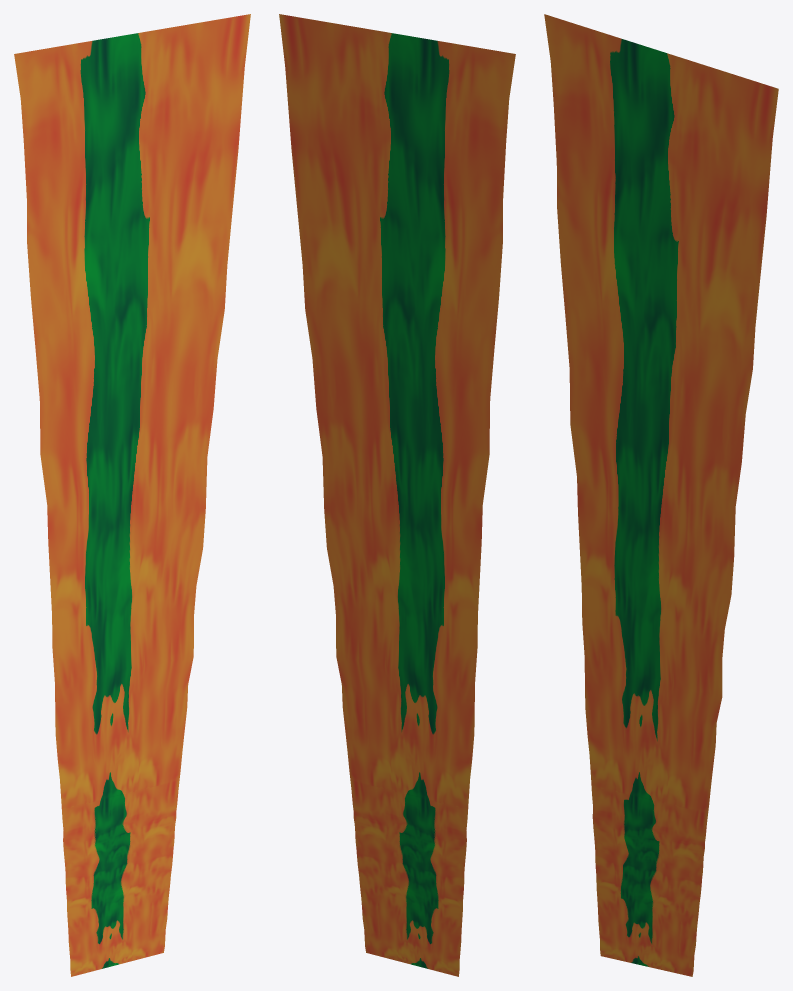
Rendered from p_trashbot_start_sprinkler05.fbx.
3 views of the same model, side by side, from view 1: azimuth 30°, elevation 25°; view 2: azimuth 150°, elevation 25°; view 3: azimuth 330°, elevation 25° (orthographic).
Visible parts, largest first — view 1: p_sprinkler_start_plane_05; view 2: p_sprinkler_start_plane_05; view 3: p_sprinkler_start_plane_05.
Part boxes in pixels (x1=…): p_sprinkler_start_plane_05: x1=14, y1=14, x2=250, y2=976; p_sprinkler_start_plane_05: x1=279, y1=14, x2=515, y2=976; p_sprinkler_start_plane_05: x1=544, y1=14, x2=778, y2=976.
Size of the model in its own units: 1.05 by 3.95 by 2.28e-06.
